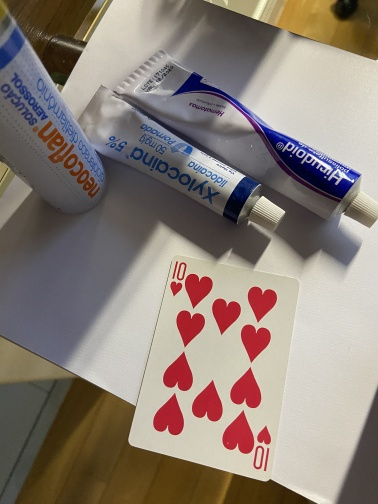ten: (126, 254, 303, 484)
